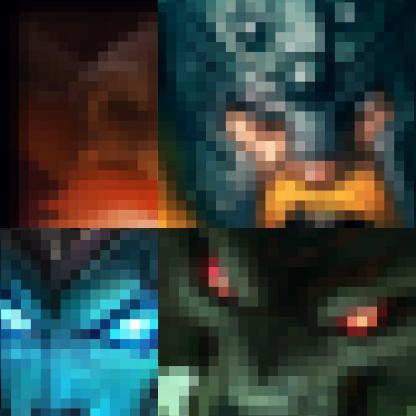Gnar: (0, 0, 157, 227)
Kalista: (0, 228, 157, 415)
Olaf: (158, 0, 415, 227)
Warwick: (158, 228, 415, 415)
